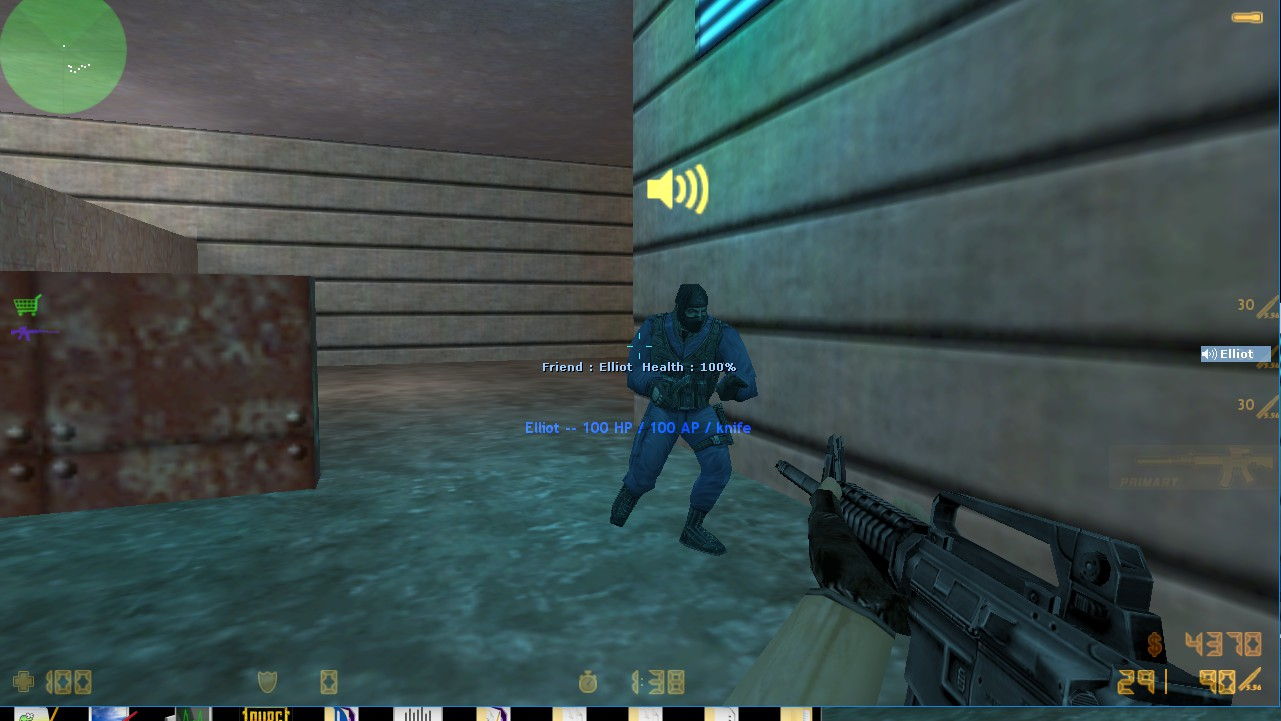person: (623, 281, 753, 554)
